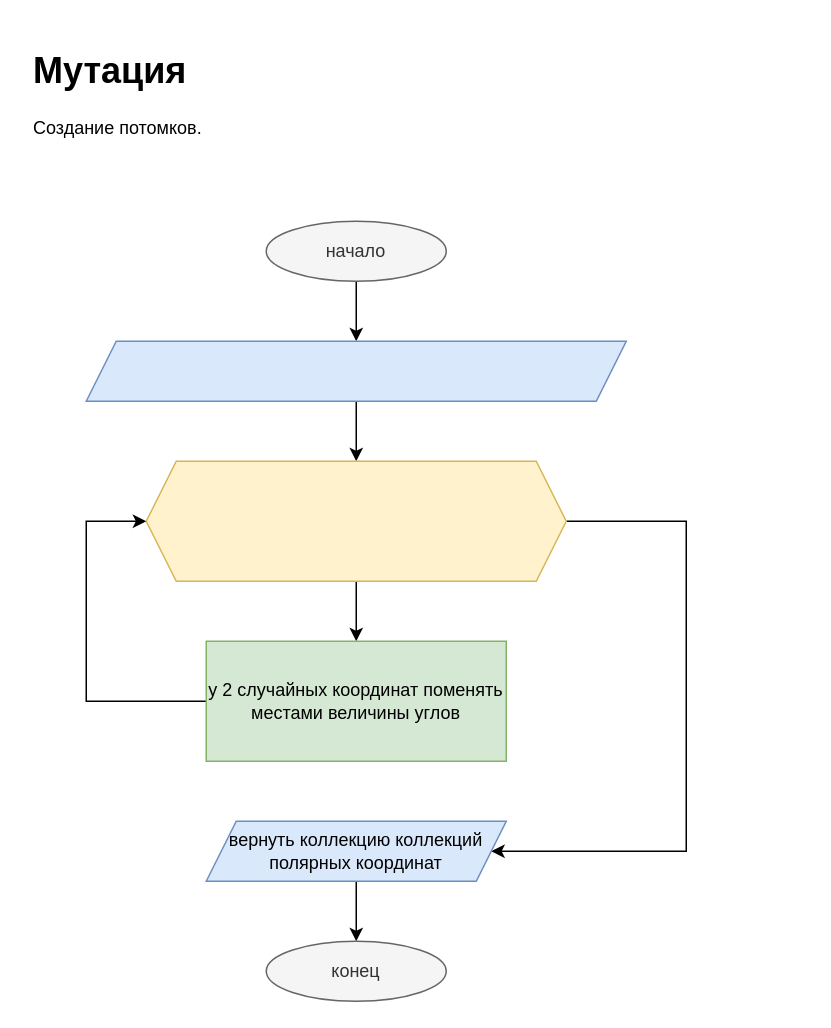
Image size: 831x1028. Some labels were removed from this diagram. The box of each missing label's shape, as (x1, y1, x2, y2) in pixels:
i = 1, childCount: (145, 460, 566, 581)
ввод коллекции полярных координат polarPonts ввод кол-ва потомков childCount: (85, 340, 626, 401)
